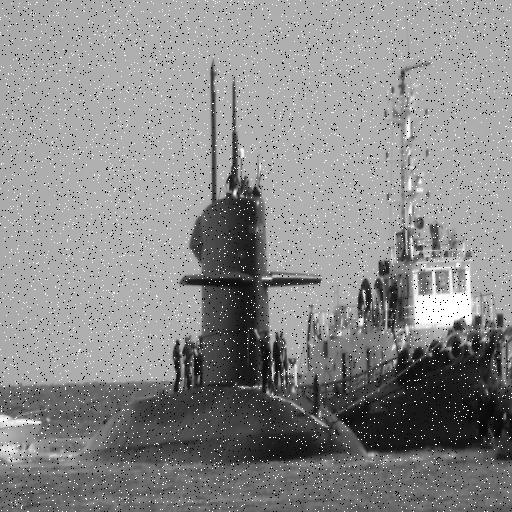submarine: (65, 53, 371, 465)
